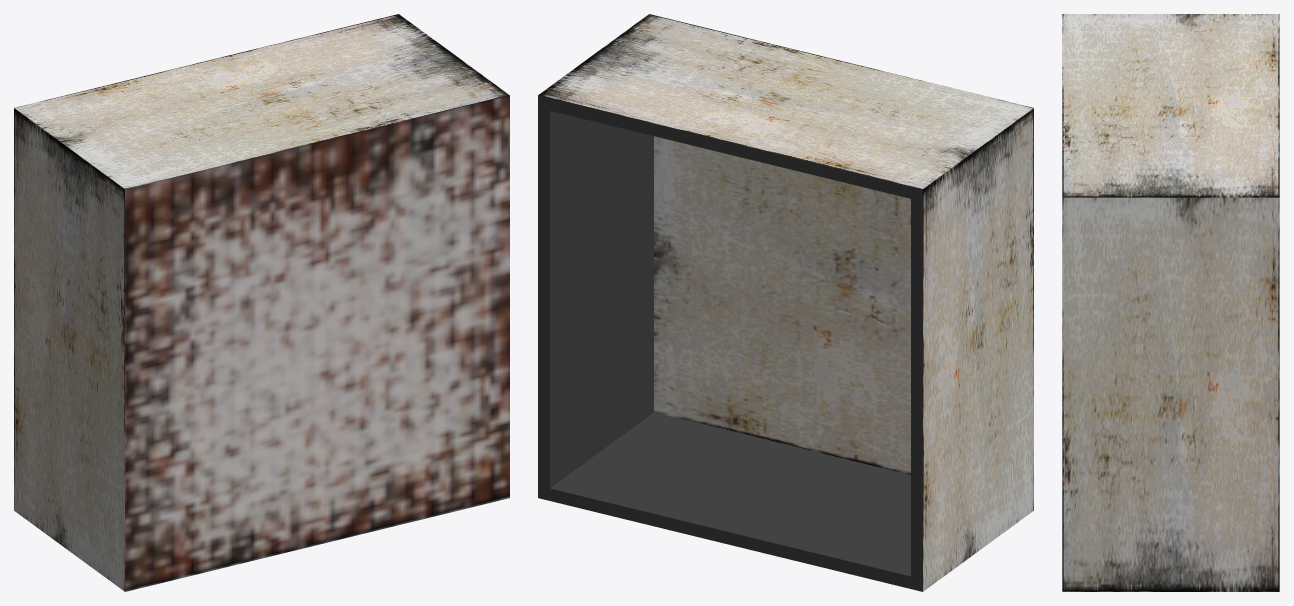
Rendered from basicbuildingAllWall_wtf.obj.
The picture shows the model from 3 angles, left to right: view 1: azimuth 30°, elevation 25°; view 2: azimuth 150°, elevation 25°; view 3: azimuth 270°, elevation 25°; orthographic projection. The views are drawn at different scales.
Visible parts, largest first — view 1: group2; view 2: group2; view 3: group2.
Boxes of the visible parts, <box> form: group2: <box>14,14,509,591</box>; group2: <box>538,14,1033,591</box>; group2: <box>1062,14,1279,591</box>.
Size of the model in its own units: 660 by 660 by 330.
